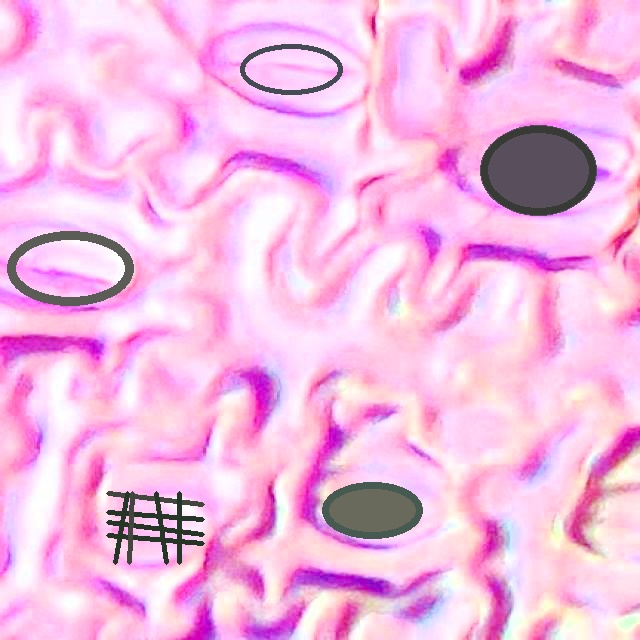close: (106, 491, 204, 564), (323, 482, 422, 537), (239, 43, 342, 94)
open: (480, 125, 597, 215), (6, 231, 133, 305)
